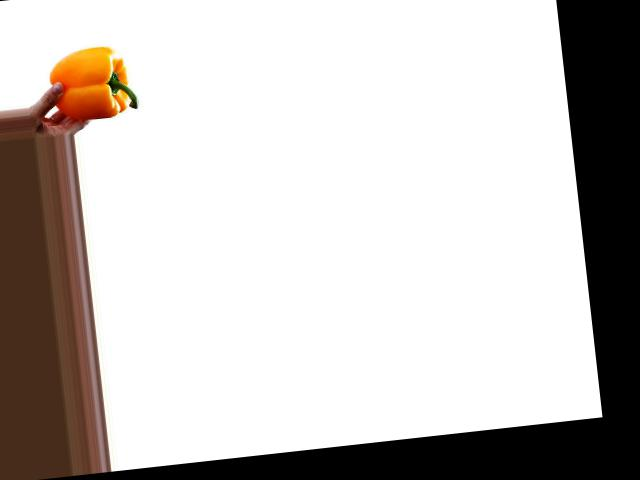bell_pepper: (45, 41, 143, 123)
